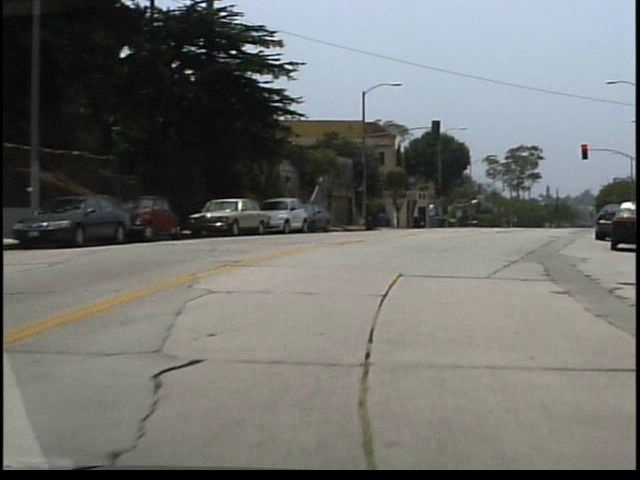person: (430, 201, 441, 230)
